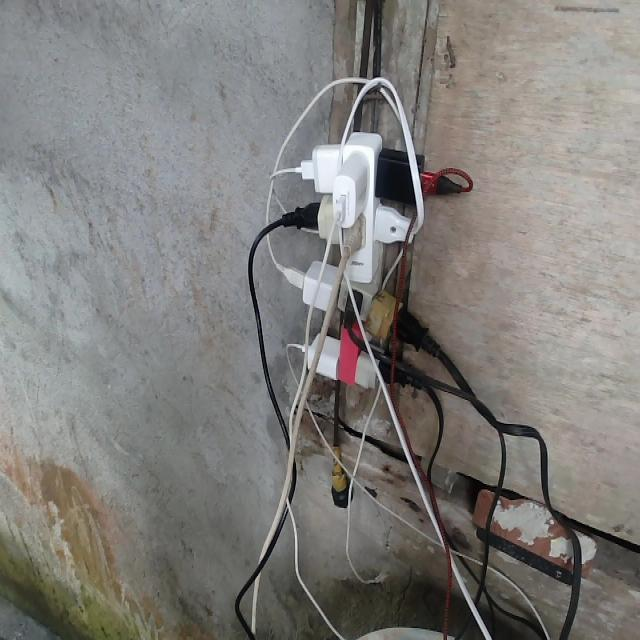-: (264, 133, 451, 388)
